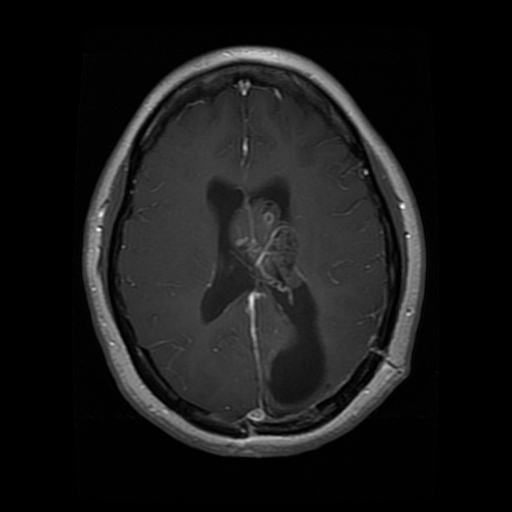glioma: (200, 179, 327, 405)
